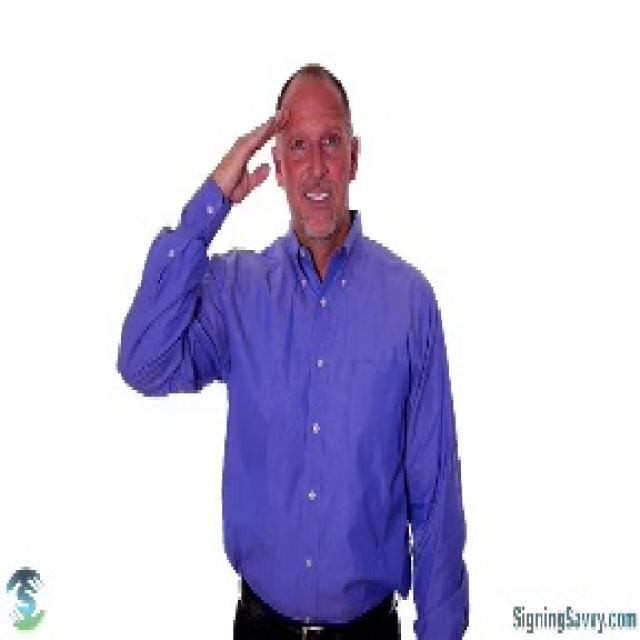hello: (212, 100, 357, 243)
